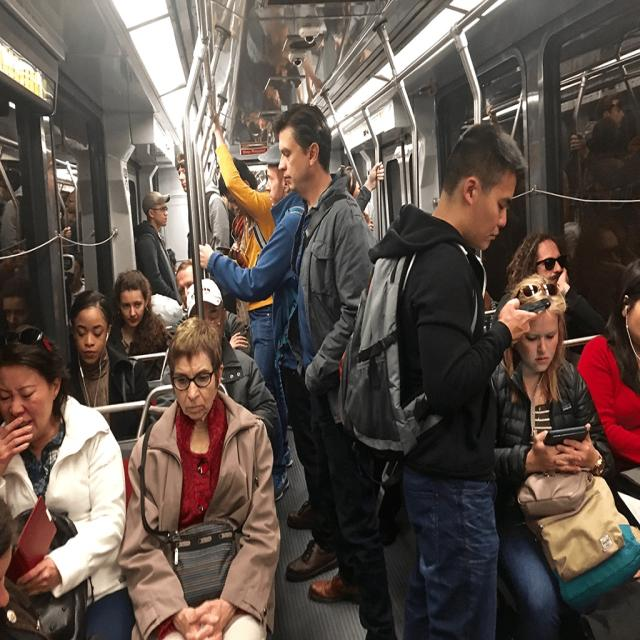body: (338, 114, 532, 639), (271, 102, 398, 640), (196, 136, 340, 581), (116, 312, 283, 639), (487, 271, 620, 640), (0, 318, 138, 640), (203, 101, 295, 505), (546, 51, 640, 342), (152, 277, 282, 444), (0, 147, 106, 340), (234, 2, 352, 148), (59, 288, 154, 444), (574, 258, 640, 466), (504, 226, 614, 348), (167, 258, 252, 356), (105, 268, 168, 382), (133, 188, 186, 310), (208, 158, 261, 270), (458, 215, 503, 343), (342, 147, 394, 253), (175, 151, 222, 252), (334, 164, 375, 234)
